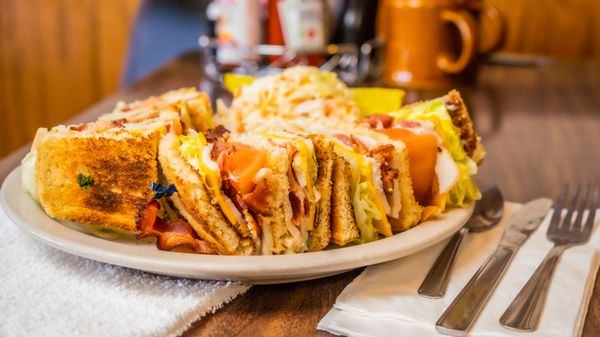sandwich: (433, 198, 552, 332)
soup: (33, 87, 215, 236)
